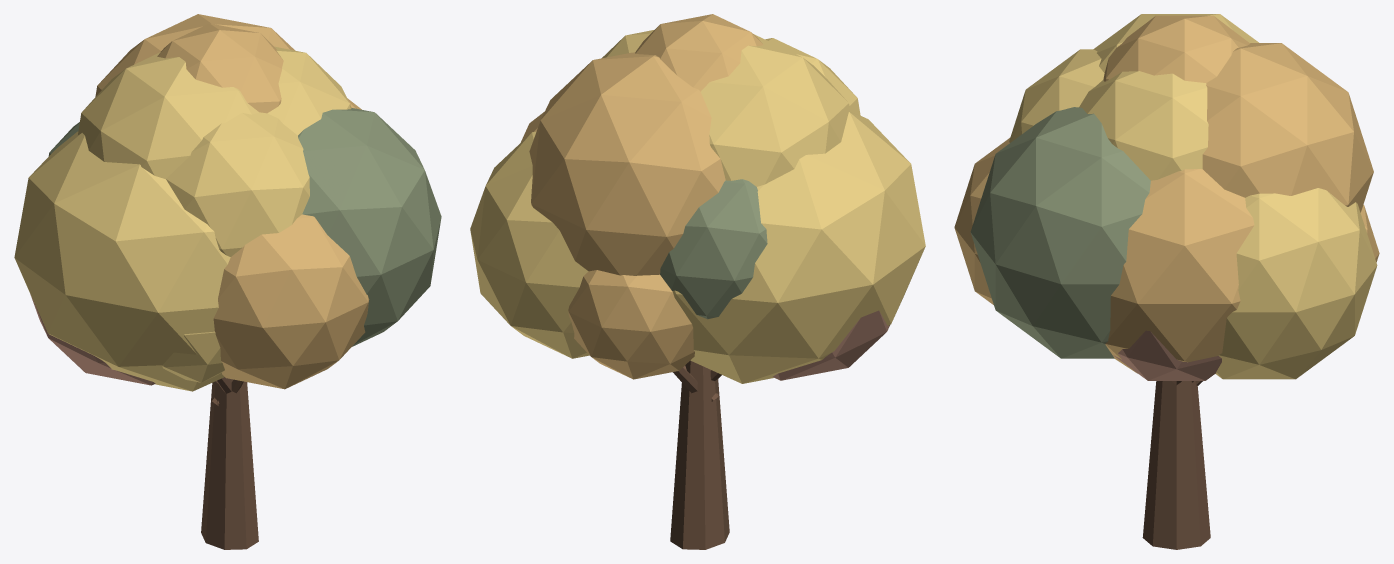
Rendered from tree_reference_oak_slim_01_full.fbx.
3 views of the same model, side by side, from view 1: azimuth 30°, elevation 25°; view 2: azimuth 150°, elevation 25°; view 3: azimuth 270°, elevation 25° (orthographic). The views are drawn at different scales.
Visible parts, largest first — view 1: tree_reference_oak_slim_01_01_valendia_img2_gold_leaf_004, tree_reference_oak_slim_01_04_valendia_img2_warm_leaf_004, tree_reference_oak_slim_01_02_valendia_img2_olive_shadow_004, tree_reference_oak_slim_01_00_valendia_dark_bark_004, tree_reference_oak_slim_01_03_valendia_img2_russet_shadow_00; view 2: tree_reference_oak_slim_01_01_valendia_img2_gold_leaf_004, tree_reference_oak_slim_01_04_valendia_img2_warm_leaf_004, tree_reference_oak_slim_01_02_valendia_img2_olive_shadow_004, tree_reference_oak_slim_01_00_valendia_dark_bark_004, tree_reference_oak_slim_01_03_valendia_img2_russet_shadow_00; view 3: tree_reference_oak_slim_01_04_valendia_img2_warm_leaf_004, tree_reference_oak_slim_01_01_valendia_img2_gold_leaf_004, tree_reference_oak_slim_01_02_valendia_img2_olive_shadow_004, tree_reference_oak_slim_01_00_valendia_dark_bark_004, tree_reference_oak_slim_01_03_valendia_img2_russet_shadow_00.
Boxes of the visible parts, x1,y1,x2,y2 form: tree_reference_oak_slim_01_01_valendia_img2_gold_leaf_004: [14, 46, 351, 391]; tree_reference_oak_slim_01_04_valendia_img2_warm_leaf_004: [95, 14, 369, 389]; tree_reference_oak_slim_01_02_valendia_img2_olive_shadow_004: [48, 108, 441, 346]; tree_reference_oak_slim_01_00_valendia_dark_bark_004: [201, 377, 258, 549]; tree_reference_oak_slim_01_03_valendia_img2_russet_shadow_00: [30, 294, 155, 385]; tree_reference_oak_slim_01_01_valendia_img2_gold_leaf_004: [470, 30, 925, 383]; tree_reference_oak_slim_01_04_valendia_img2_warm_leaf_004: [521, 14, 763, 379]; tree_reference_oak_slim_01_02_valendia_img2_olive_shadow_004: [660, 179, 767, 319]; tree_reference_oak_slim_01_00_valendia_dark_bark_004: [670, 360, 729, 549]; tree_reference_oak_slim_01_03_valendia_img2_russet_shadow_00: [773, 310, 889, 380]; tree_reference_oak_slim_01_04_valendia_img2_warm_leaf_004: [954, 15, 1379, 373]; tree_reference_oak_slim_01_01_valendia_img2_gold_leaf_004: [1009, 14, 1377, 379]; tree_reference_oak_slim_01_02_valendia_img2_olive_shadow_004: [970, 107, 1150, 358]; tree_reference_oak_slim_01_00_valendia_dark_bark_004: [1142, 381, 1210, 549]; tree_reference_oak_slim_01_03_valendia_img2_russet_shadow_00: [1113, 330, 1221, 380].
Size of the model in its own units: 425 by 569 by 425.
